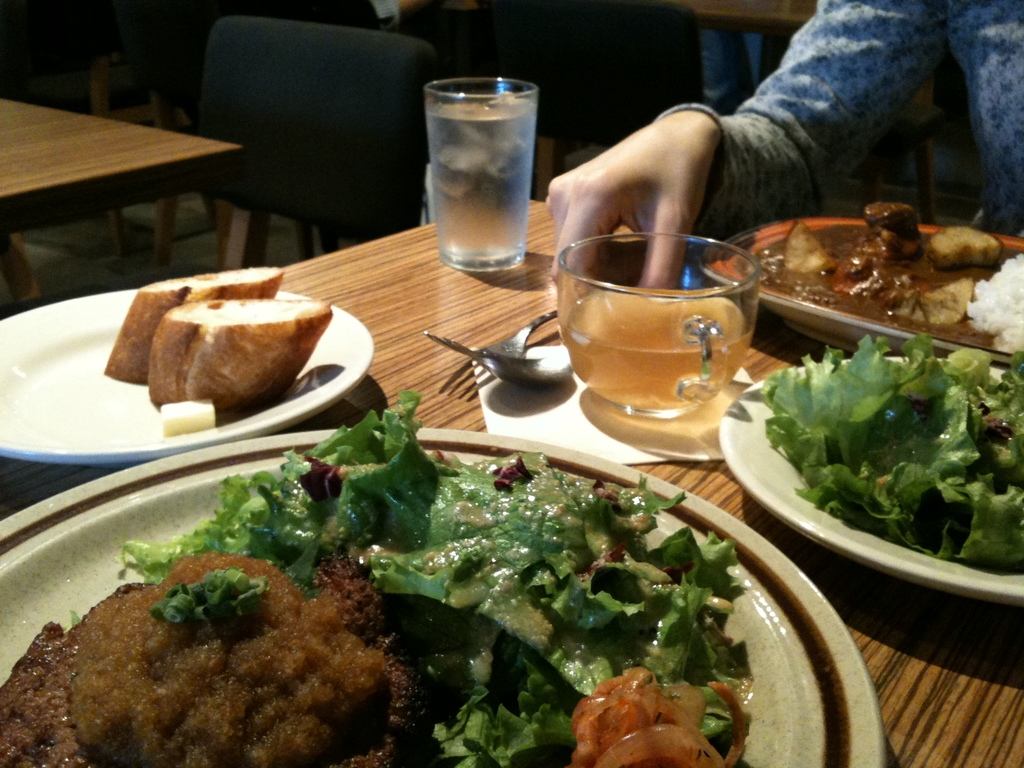salad: (125, 394, 755, 767), (753, 333, 1023, 585)
